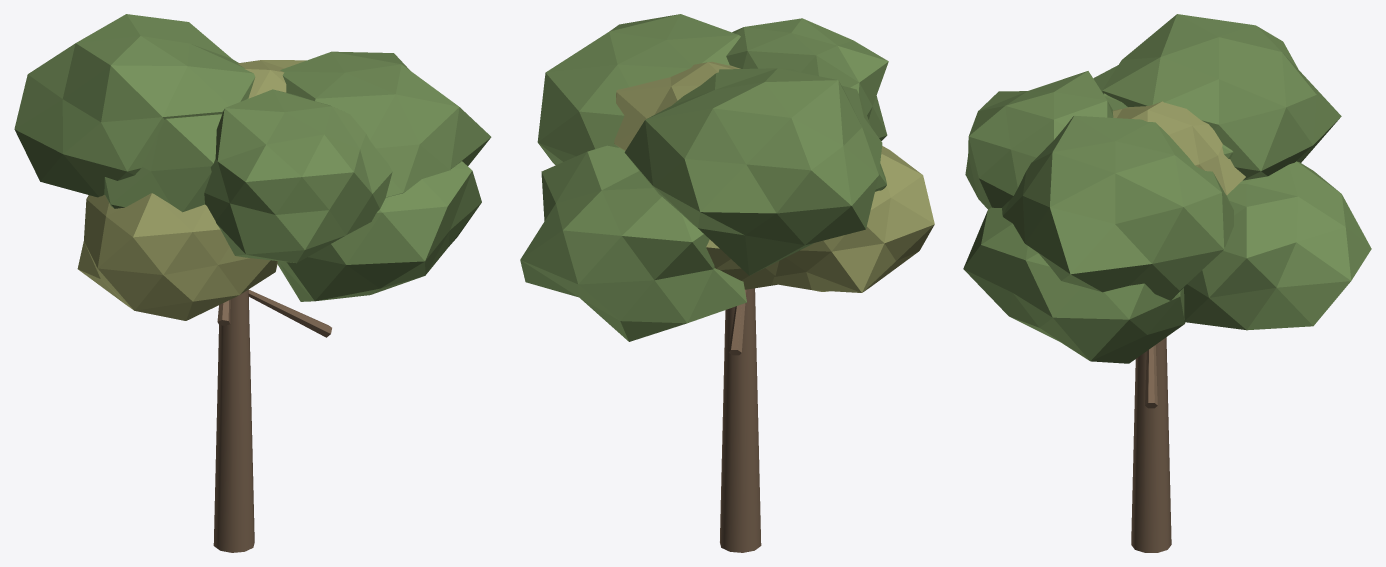
File: tree_2.glb
3 views of the same model, side by side, from view 1: azimuth 30°, elevation 25°; view 2: azimuth 150°, elevation 25°; view 3: azimuth 270°, elevation 25° (orthographic). The views are drawn at different scales.
Visible parts, largest first — view 1: Leaves8, Leaves1, Leaves6, Leaves7, Leaves4, Trunk, Leaves2, Leaves3, Branch0; view 2: Leaves8, Leaves5, Leaves7, Leaves6, Trunk, Leaves1, Leaves3, Leaves0, Branch1, Leaves2; view 3: Leaves7, Leaves8, Leaves5, Leaves4, Leaves1, Trunk, Leaves3, Branch0, Leaves2.
Boxes of the visible parts, <box> form: Leaves8: <box>14,14,255,197</box>; Leaves1: <box>204,89,392,263</box>; Leaves6: <box>77,193,277,320</box>; Leaves7: <box>280,51,491,197</box>; Leaves4: <box>277,161,481,301</box>; Trunk: <box>213,289,254,552</box>; Leaves2: <box>104,98,248,212</box>; Leaves3: <box>238,60,306,98</box>; Branch0: <box>248,290,331,337</box>; Leaves8: <box>624,68,882,275</box>; Leaves5: <box>520,145,746,341</box>; Leaves7: <box>537,14,740,165</box>; Leaves6: <box>772,145,934,292</box>; Trunk: <box>720,288,761,552</box>; Leaves1: <box>726,18,888,140</box>; Leaves3: <box>614,61,740,150</box>; Leaves0: <box>706,239,779,289</box>; Branch1: <box>728,289,746,355</box>; Leaves2: <box>842,85,886,191</box>; Leaves7: <box>1002,115,1233,300</box>; Leaves8: <box>1102,14,1341,180</box>; Leaves5: <box>1184,161,1371,330</box>; Leaves4: <box>963,207,1185,363</box>; Leaves1: <box>965,71,1113,209</box>; Trunk: <box>1131,337,1171,552</box>; Leaves3: <box>1112,101,1245,195</box>; Branch0: <box>1145,345,1157,408</box>; Leaves2: <box>1093,65,1233,159</box>.
Size of the model in its own units: 4.61 by 5.76 by 4.44.
